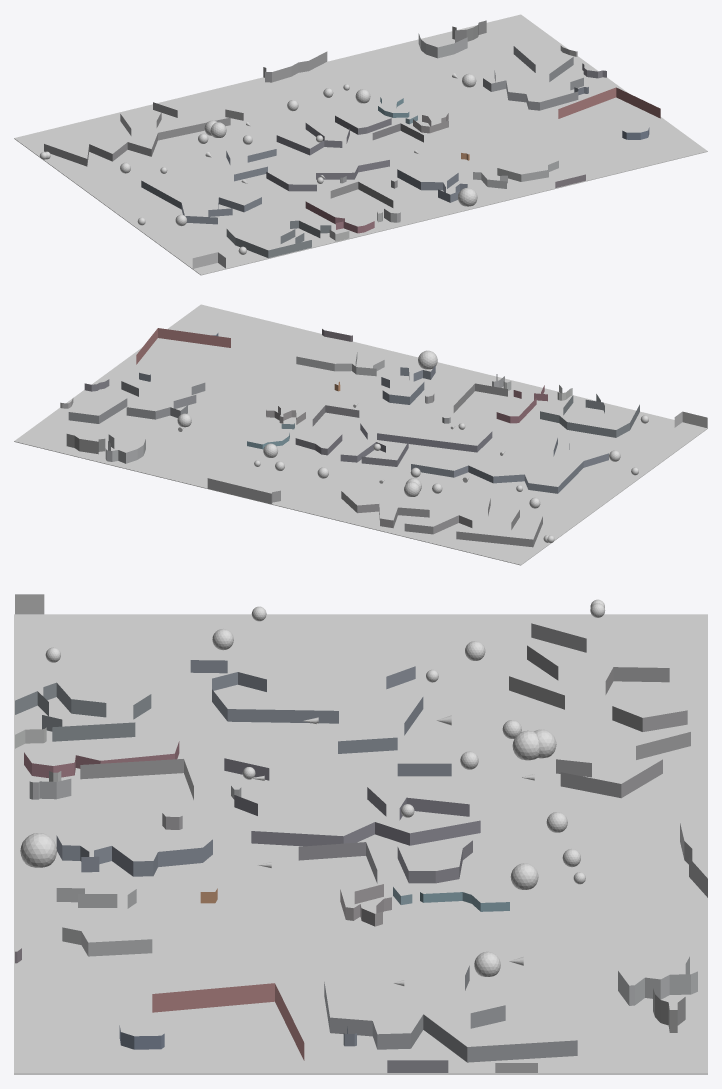
3 views of the same model, one above another, from view 1: azimuth 30°, elevation 25°; view 2: azimuth 150°, elevation 25°; view 3: azimuth 270°, elevation 25° (orthographic). The views are drawn at different scales.
Parts seen in each view (by area): view 1: Ground_Base, BLD-028, BLD-021, BLD-023, BLD-026, BLD-006, BLD-015, BLD-007, BLD-012, BLD-030, BLD-029, BLD-009 (+3 smaller); view 2: Ground_Base, BLD-028, BLD-026, BLD-023, BLD-021, BLD-006, BLD-015, BLD-030, BLD-007, BLD-012, BLD-029, BLD-027 (+2 smaller); view 3: Ground_Base, BLD-028, BLD-021, BLD-023, BLD-026, BLD-006, BLD-015, BLD-012, BLD-007, BLD-029, BLD-011, BLD-009 (+8 smaller).
Boxes of the visible parts, <box> form: Ground_Base: <box>14,14,707,275</box>; BLD-028: <box>44,102,243,166</box>; BLD-021: <box>141,149,276,224</box>; BLD-023: <box>266,123,389,191</box>; BLD-026: <box>483,46,583,110</box>; BLD-006: <box>226,220,331,258</box>; BLD-015: <box>558,87,660,118</box>; BLD-007: <box>473,160,558,188</box>; BLD-012: <box>397,169,467,202</box>; BLD-030: <box>263,51,327,82</box>; BLD-029: <box>418,33,467,58</box>; BLD-009: <box>305,201,374,233</box>; Ground_Base: <box>14,304,707,565</box>; BLD-028: <box>341,491,542,547</box>; BLD-026: <box>68,381,205,423</box>; BLD-023: <box>340,423,492,466</box>; BLD-021: <box>411,438,608,493</box>; BLD-006: <box>540,394,639,437</box>; BLD-015: <box>136,328,230,364</box>; BLD-030: <box>207,478,280,503</box>; BLD-007: <box>296,352,384,376</box>; BLD-012: <box>381,365,435,404</box>; BLD-029: <box>105,434,145,463</box>; BLD-027: <box>66,434,105,454</box>; Ground_Base: <box>14,614,707,1074</box>; BLD-028: <box>509,623,690,798</box>; BLD-021: <box>190,660,451,776</box>; BLD-023: <box>224,758,480,846</box>; BLD-026: <box>324,965,577,1062</box>; BLD-006: <box>15,682,151,741</box>; BLD-015: <box>152,983,304,1060</box>; BLD-012: <box>56,835,212,876</box>; BLD-007: <box>56,888,152,956</box>; BLD-029: <box>618,956,697,1005</box>; BLD-011: <box>80,759,193,799</box>; BLD-009: <box>24,741,179,777</box>.
Bounding box in the file's own units: 389 × 13.1 × 247.
